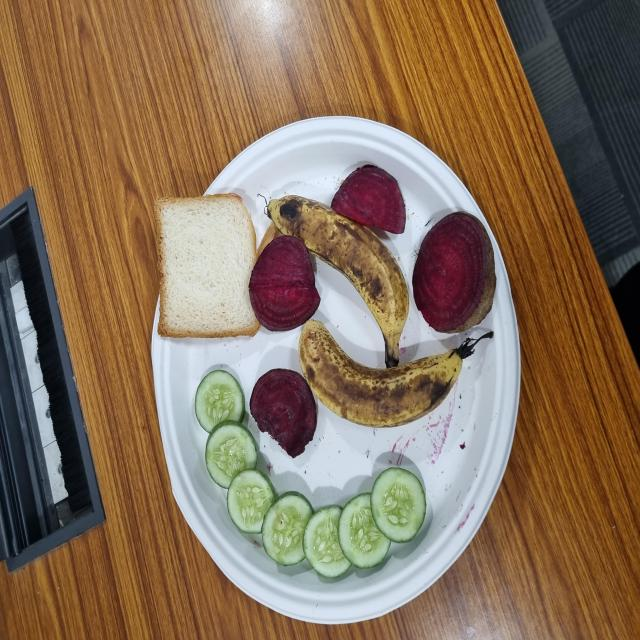banana: (206, 354, 334, 548), (159, 399, 242, 620)
cucumber: (141, 258, 208, 333), (72, 496, 134, 575), (53, 350, 113, 422), (54, 453, 111, 524), (44, 405, 103, 473), (112, 274, 164, 349), (77, 304, 128, 374)
